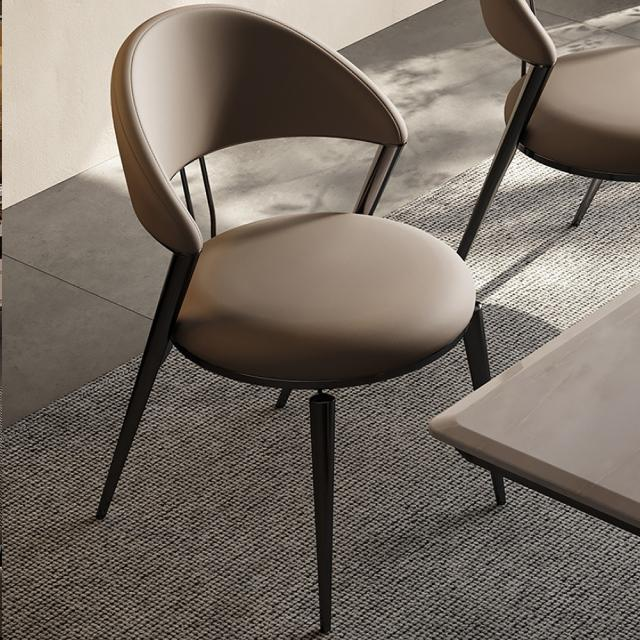chair: (93, 0, 507, 638), (134, 0, 471, 432), (449, 0, 640, 270), (482, 0, 640, 172)
